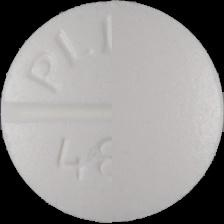42291-813: (0, 0, 224, 224)
